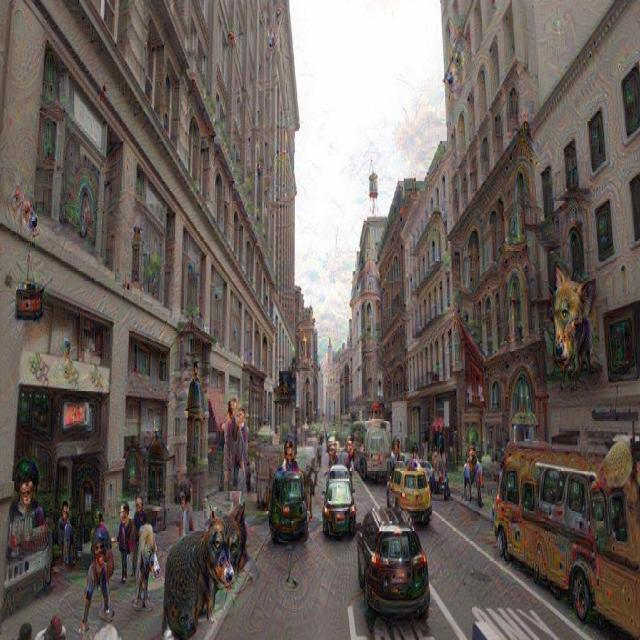car: (356, 501, 435, 615), (270, 468, 307, 546), (316, 472, 353, 538), (392, 464, 432, 520)
